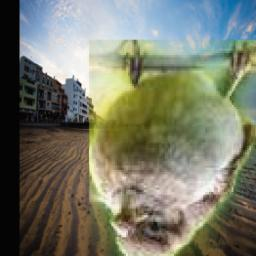Sparrow: (89, 41, 256, 256)
